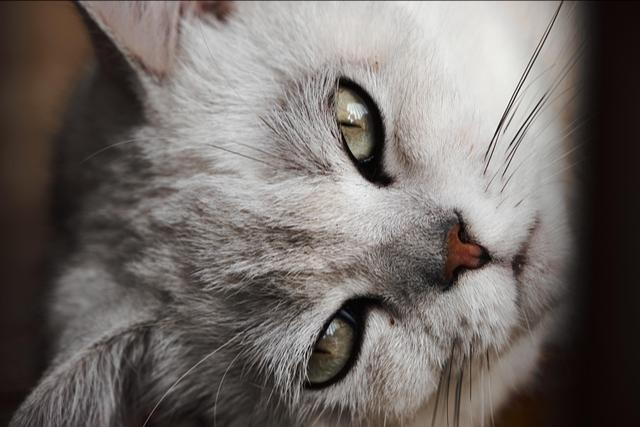Non_Gorille: (56, 9, 606, 421)
